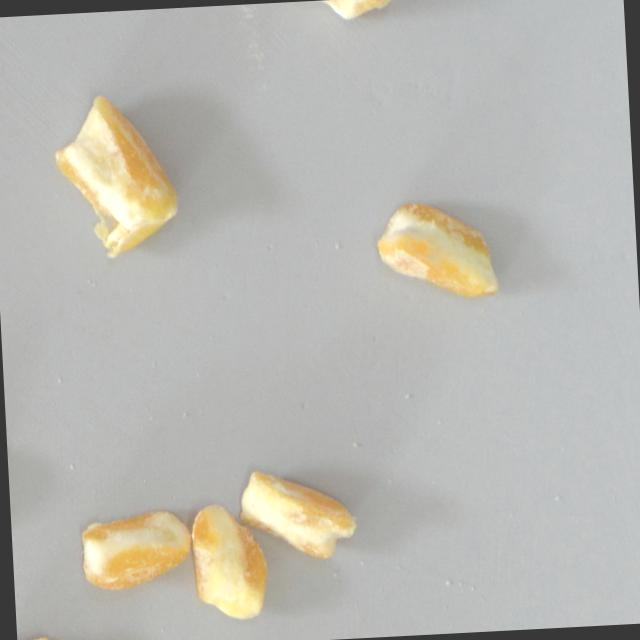dañado: (45, 87, 185, 269), (370, 193, 505, 309), (73, 503, 196, 596), (185, 498, 271, 625), (16, 631, 83, 640)
punto_negro: (234, 463, 360, 564)
